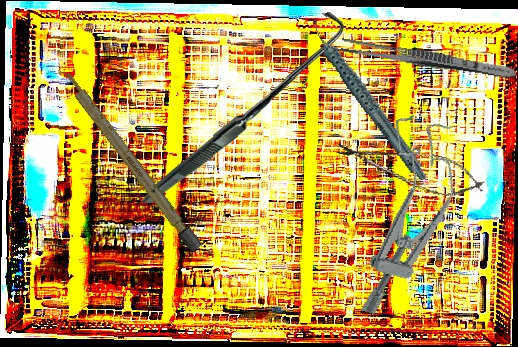Dressing Forceps: (339, 37, 518, 82)
Handpiece: (309, 2, 428, 197)
Hook Surgical: (136, 12, 347, 203)
Micro Scissor: (331, 131, 489, 205)
Scalpel Handle: (55, 64, 204, 254)
Speculum: (345, 111, 471, 326)
